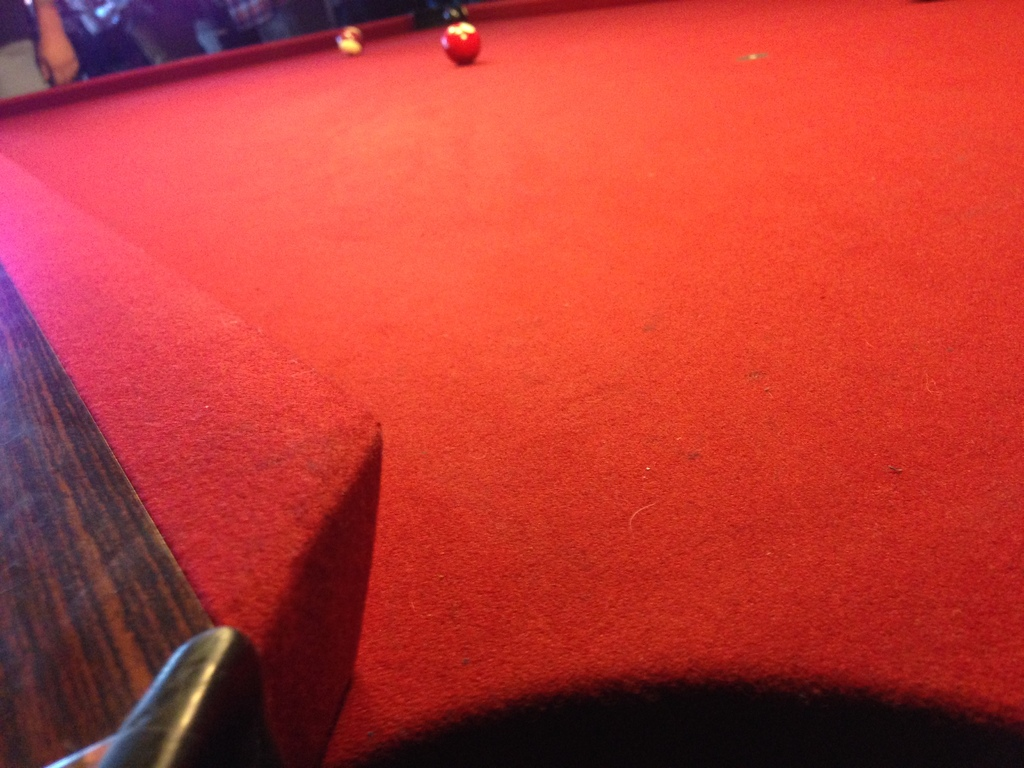Ball: (439, 23, 477, 65), (339, 26, 364, 60)
